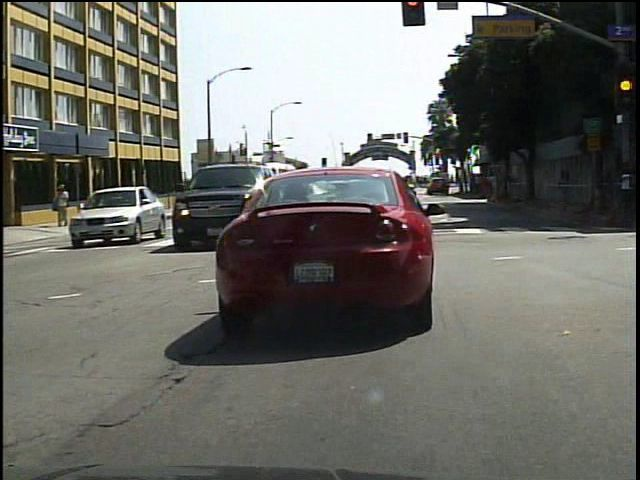person: (54, 180, 77, 229)
